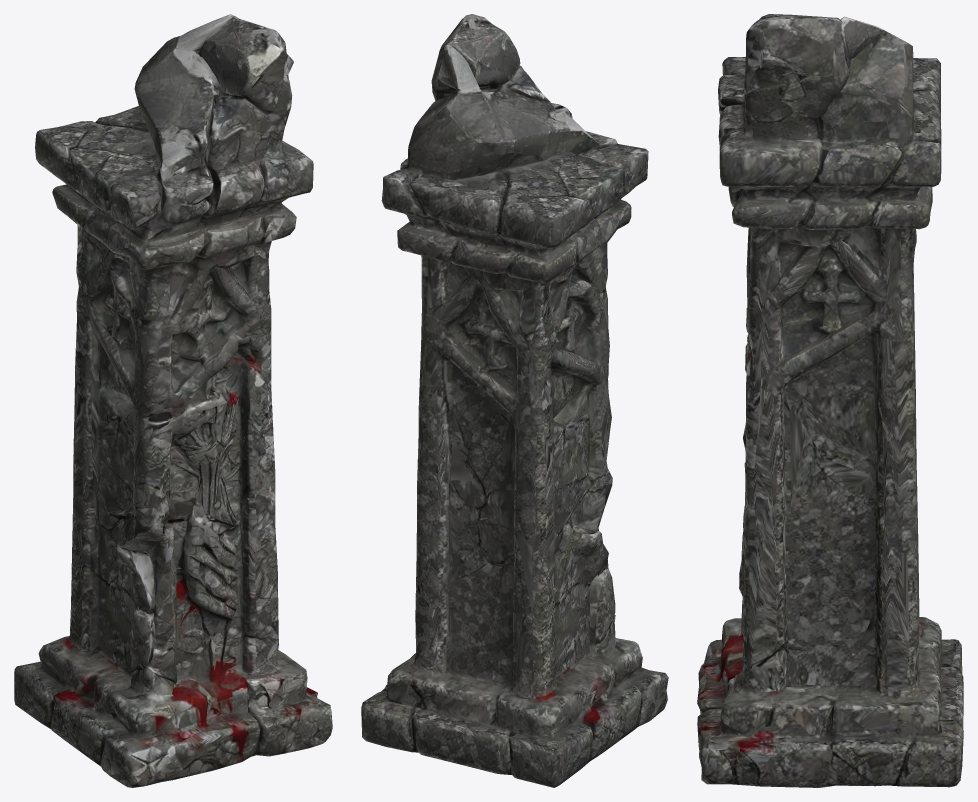
Rendered from pillar.glb.
3 views of the same model, side by side, from view 1: azimuth 30°, elevation 25°; view 2: azimuth 150°, elevation 25°; view 3: azimuth 270°, elevation 25° (orthographic). The views are drawn at different scales.
Visible parts, largest first — view 1: pillar; view 2: pillar; view 3: pillar.
Part boxes in pixels (left/top/right/bottom): pillar: left=14, top=14, right=332, bottom=787; pillar: left=361, top=14, right=668, bottom=787; pillar: left=697, top=14, right=963, bottom=787.
Bounding box in the file's own units: 0.3149 × 0.9991 × 0.3193.
1 material, 1 textured.
